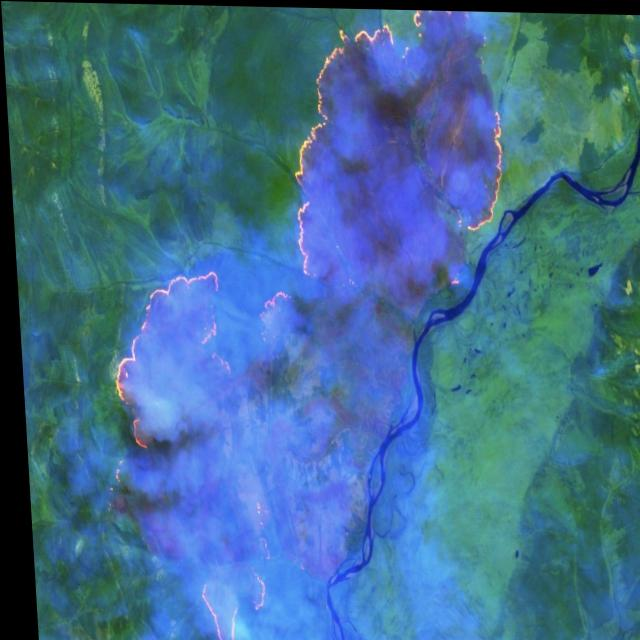fire: (76, 1, 527, 640)
